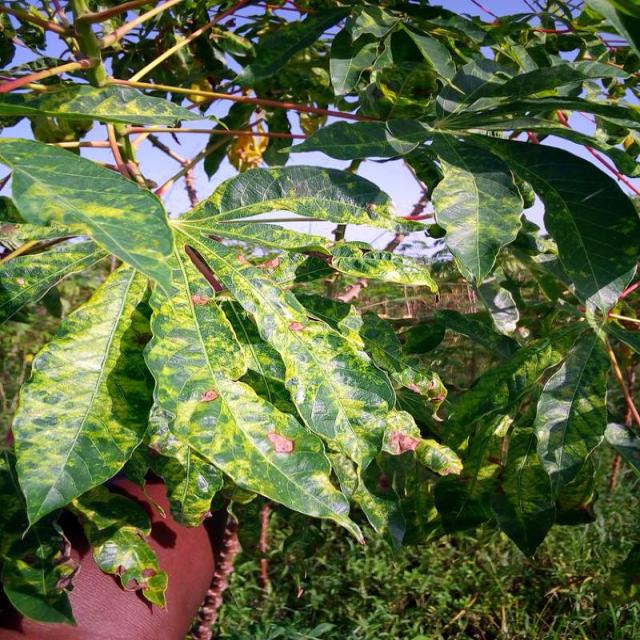cassava leaf: (4, 138, 462, 552), (12, 257, 158, 538), (2, 136, 176, 296), (431, 145, 525, 287)
